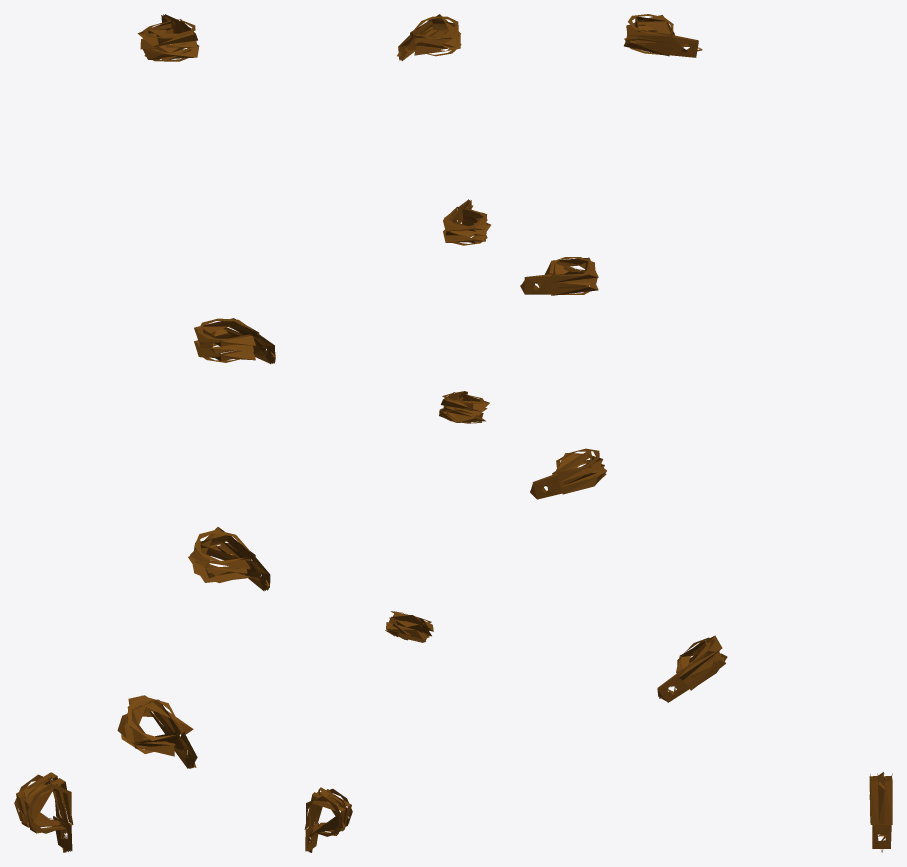
File: rear_left_steer_083.dae
3 renders of one model, left to right at view 1: azimuth 30°, elevation 25°; view 2: azimuth 150°, elevation 25°; view 3: azimuth 270°, elevation 25°, orthographic. The views are drawn at different scales.
Visible parts, largest first — view 1: node; view 2: node; view 3: node.
Boxes of the visible parts, box(x1,y1,x2,y2) form: node: box(14, 14, 275, 852); node: box(304, 14, 490, 852); node: box(520, 14, 892, 852).
Bounding box in the file's own units: 0.0217 × 0.1208 × 0.2936.
